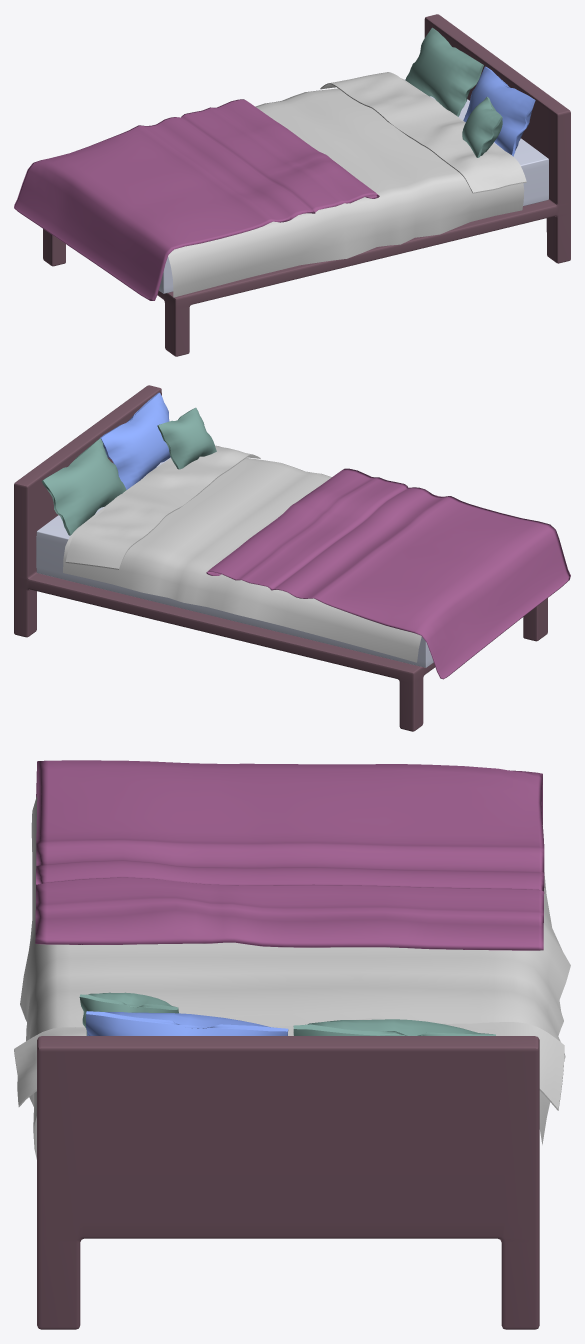
File: bed.fbx
3 views of the same model, one above another, from view 1: azimuth 30°, elevation 25°; view 2: azimuth 150°, elevation 25°; view 3: azimuth 270°, elevation 25° (orthographic). The views are drawn at different scales.
Visible parts, largest first — view 1: pCube6; view 2: pCube6; view 3: pCube6.
Boxes of the visible parts, x1,y1,x2,y2 form: pCube6: (14, 14, 570, 356); pCube6: (14, 385, 570, 731); pCube6: (14, 760, 570, 1329).
Size of the model in its own units: 7.72 by 2.74 by 4.65.
